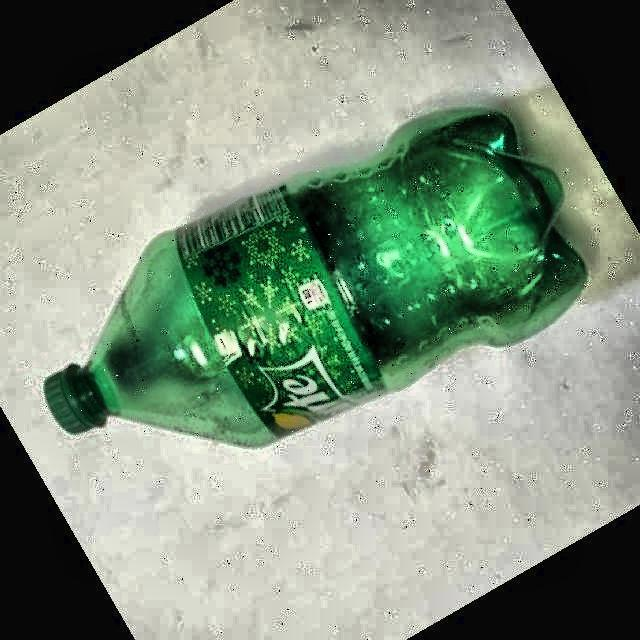plastic: (45, 109, 586, 446)
